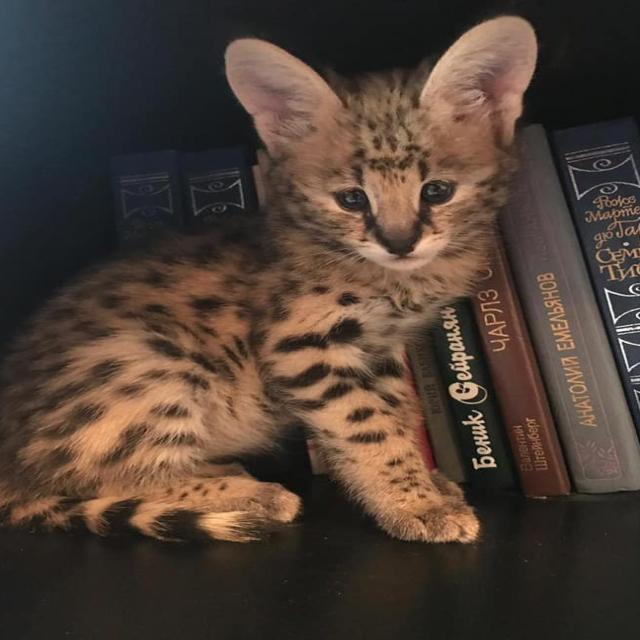Savannah: (0, 10, 545, 549)
